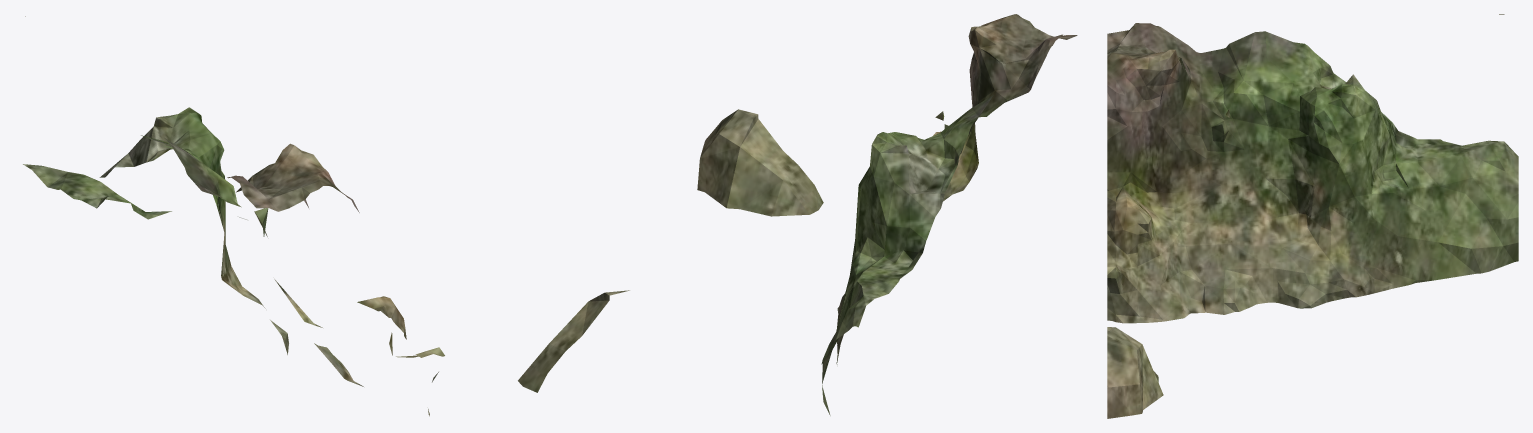
The picture shows the model from 3 angles, left to right: view 1: azimuth 30°, elevation 25°; view 2: azimuth 150°, elevation 25°; view 3: azimuth 270°, elevation 25°; orthographic projection. The views are drawn at different scales.
Size of the model in its own units: 2.89 by 1.85 by 2.95.
Materials: 2 (2 with a texture image).
